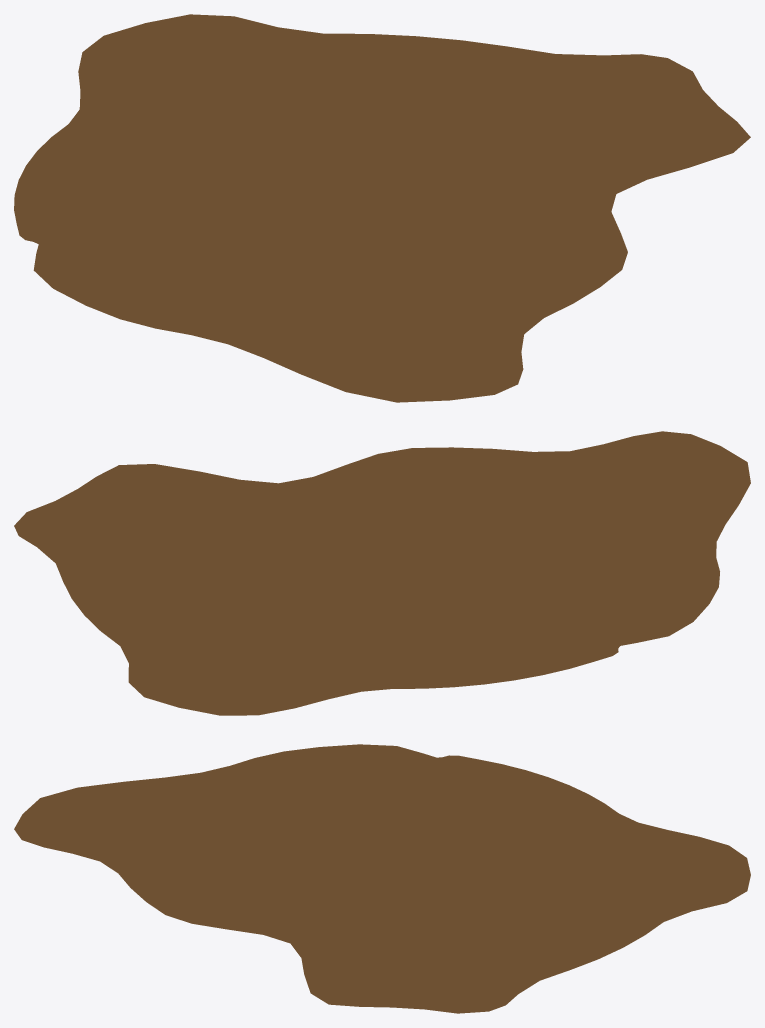
Rendered from coffee.glb.
The picture shows the model from 3 angles, top to bottom: view 1: azimuth 30°, elevation 25°; view 2: azimuth 150°, elevation 25°; view 3: azimuth 270°, elevation 25°; orthographic projection. The views are drawn at different scales.
Visible parts, largest first — view 1: Cylinder; view 2: Cylinder; view 3: Cylinder.
Boxes of the visible parts, x1=… form: Cylinder: x1=14, y1=14, x2=750, y2=402; Cylinder: x1=14, y1=431, x2=750, y2=715; Cylinder: x1=14, y1=744, x2=750, y2=1013.
Size of the model in its own units: 1.7 by 0.00129 by 1.97.
